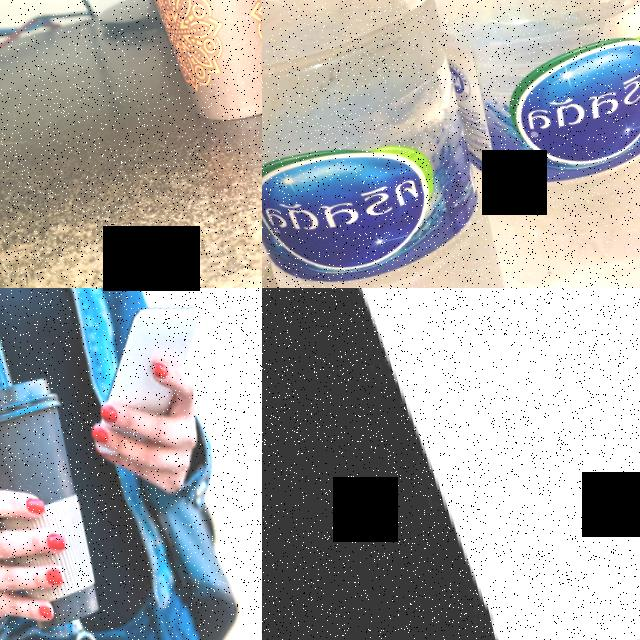bottle: (262, 0, 526, 288), (386, 0, 640, 288)
cup: (280, 288, 640, 640), (0, 374, 108, 636), (109, 0, 262, 144)
